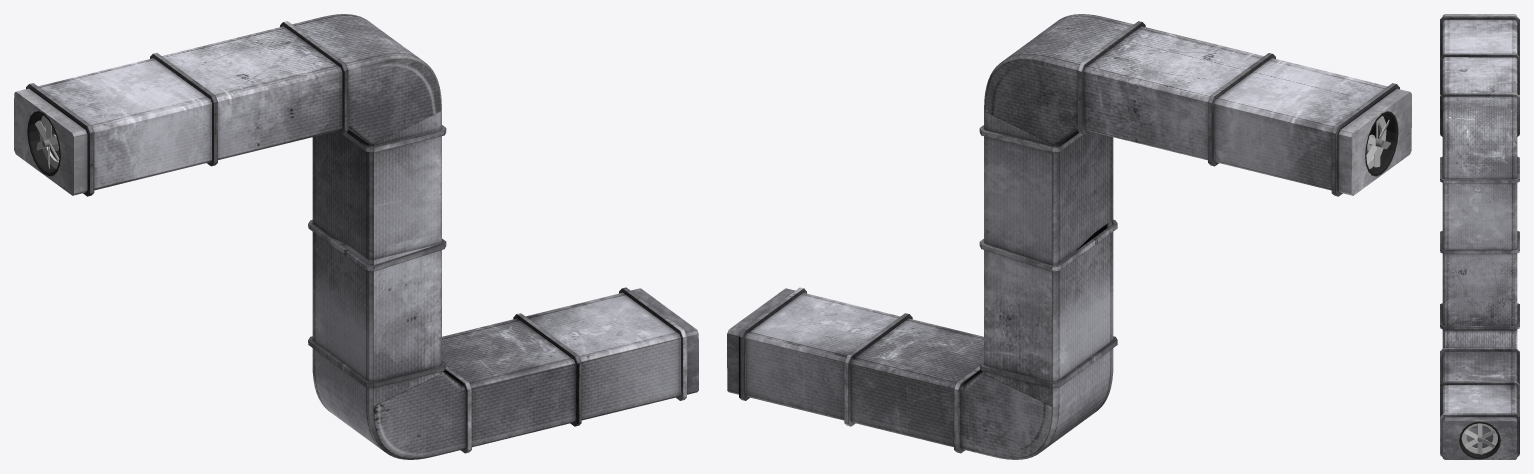
Rendered from airduct.DAE.
3 renders of one model, left to right at view 1: azimuth 30°, elevation 25°; view 2: azimuth 150°, elevation 25°; view 3: azimuth 270°, elevation 25°, orthographic. The views are drawn at different scales.
Parts seen in each view (by area): view 1: breakvent, extairduct, fanhousing, fan_housing01; view 2: extairduct, breakvent, fanhousing, fan_housing01; view 3: extairduct, breakvent, fanhousing, botfan_blades, fan_housing02, fan_ring02.
Part boxes in pixels (left/top/right/bottom): breakvent: left=94, top=41, right=660, bottom=459; extairduct: left=26, top=14, right=687, bottom=453; fanhousing: left=14, top=88, right=698, bottom=394; fan_housing01: left=27, top=111, right=60, bottom=176; extairduct: left=739, top=21, right=1399, bottom=459; breakvent: left=805, top=14, right=1370, bottom=355; fanhousing: left=727, top=88, right=1411, bottom=394; fan_housing01: left=1365, top=111, right=1398, bottom=176; extairduct: left=1440, top=16, right=1519, bottom=456; breakvent: left=1442, top=26, right=1468, bottom=410; fanhousing: left=1442, top=14, right=1517, bottom=459; botfan_blades: left=1464, top=423, right=1495, bottom=454; fan_housing02: left=1459, top=422, right=1500, bottom=458; fan_ring02: left=1461, top=423, right=1500, bottom=453.
Bounding box in the file's own units: 249 × 160 × 44.2.
